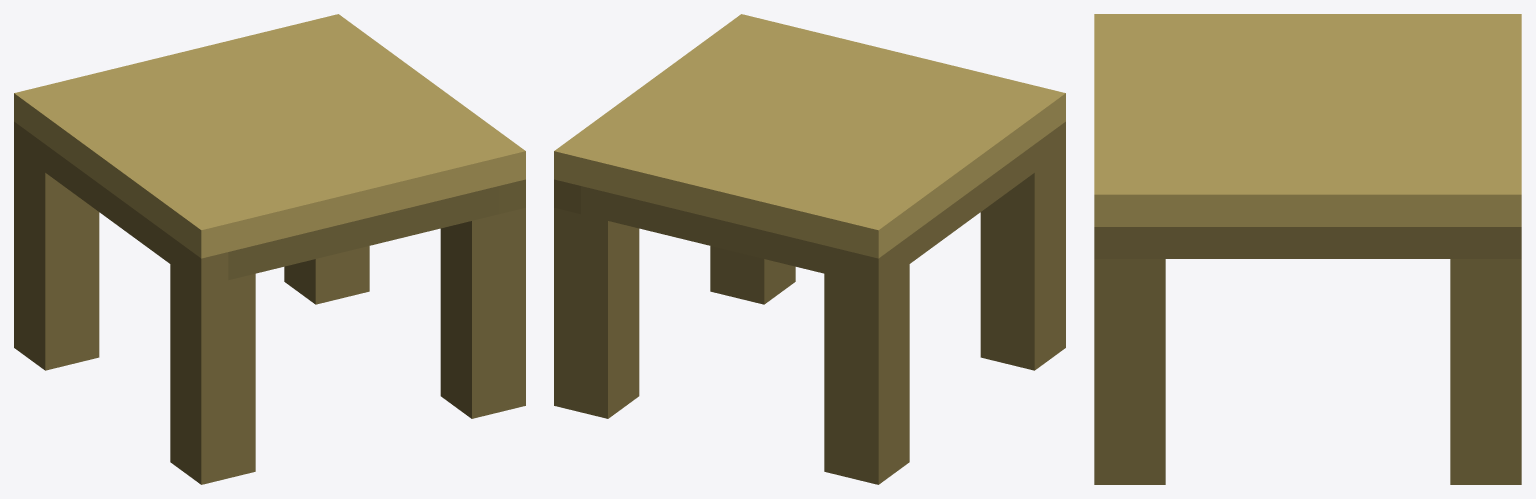
File: mesa_fundicion_precioso_desgastada_01.glb
3 renders of one model, left to right at view 1: azimuth 30°, elevation 25°; view 2: azimuth 150°, elevation 25°; view 3: azimuth 270°, elevation 25°, orthographic. The views are drawn at different scales.
Visible parts, largest first — view 1: mesa_fundicion_precioso_desgastada; view 2: mesa_fundicion_precioso_desgastada; view 3: mesa_fundicion_precioso_desgastada.
Part boxes in pixels (bbox=[...]): mesa_fundicion_precioso_desgastada: bbox=[14, 14, 525, 484]; mesa_fundicion_precioso_desgastada: bbox=[554, 14, 1065, 484]; mesa_fundicion_precioso_desgastada: bbox=[1094, 14, 1521, 484].
Bounding box in the file's own units: 1 × 0.75 × 1.
